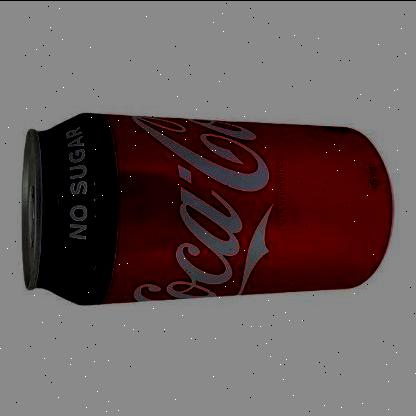Can: (20, 110, 394, 304)
